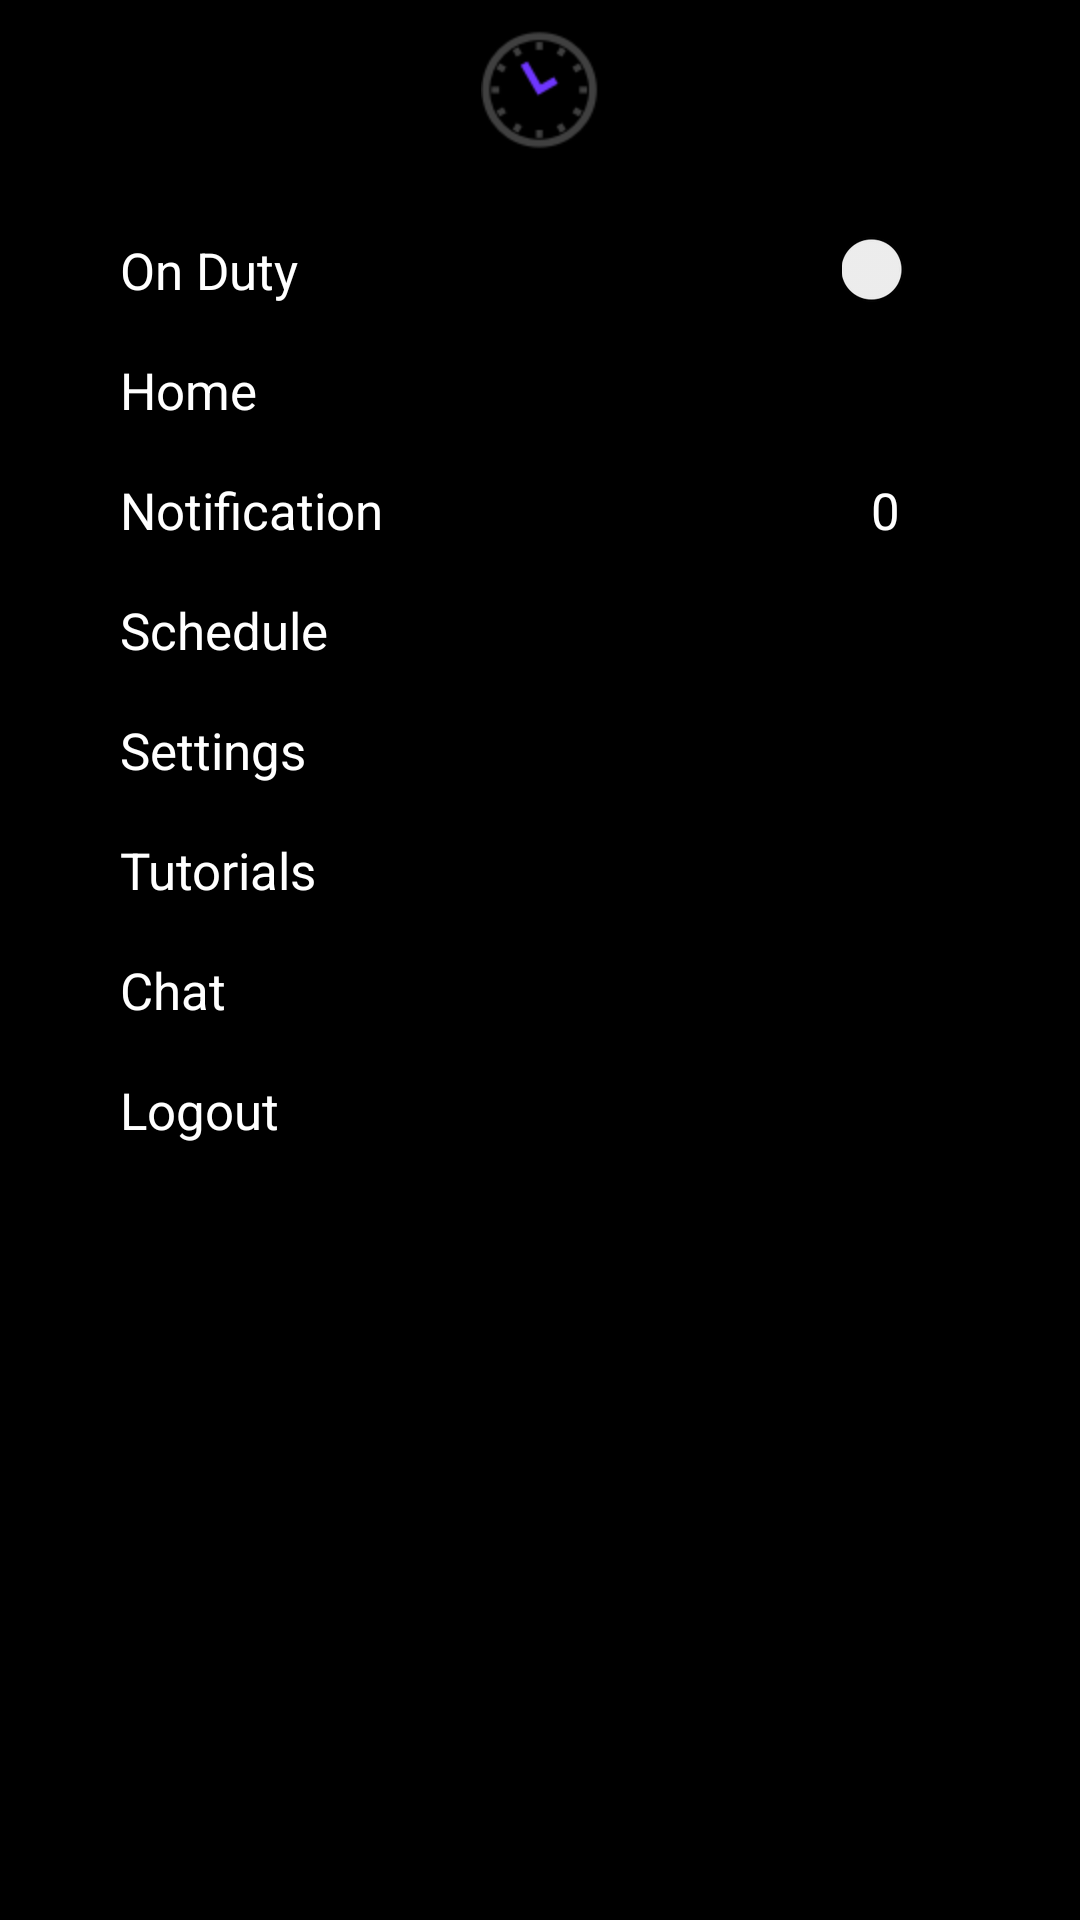

Icons on this 1080px×1920px Android screen, each with its box as (x1, y1, x2, y2):
clock: (481, 32, 597, 148)
